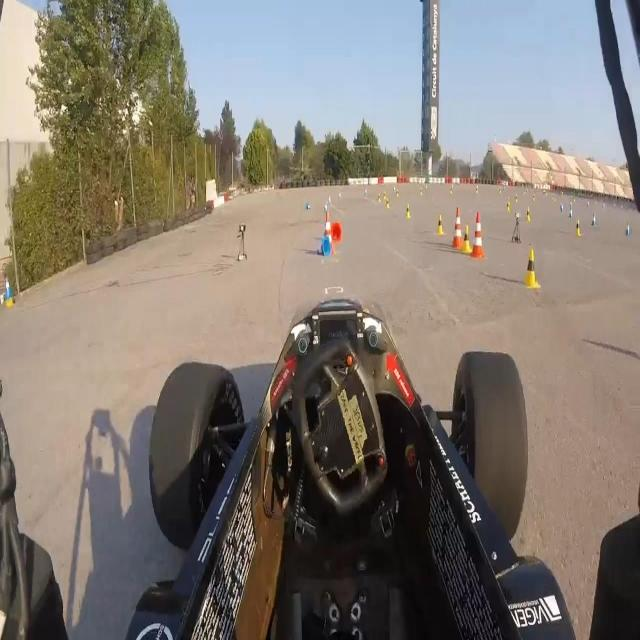blue_cone: (625, 219, 631, 239), (591, 212, 597, 230), (568, 205, 572, 219), (324, 202, 328, 215), (364, 186, 368, 198), (328, 195, 331, 206)
large_orange_cone: (471, 212, 484, 259), (322, 210, 334, 255), (452, 205, 462, 250)
yellow_cone: (523, 248, 537, 288), (463, 224, 472, 254), (436, 214, 445, 236), (575, 217, 580, 238), (404, 202, 410, 219), (526, 204, 531, 223), (506, 197, 511, 215), (386, 196, 390, 210), (515, 193, 518, 203), (378, 192, 380, 205)
